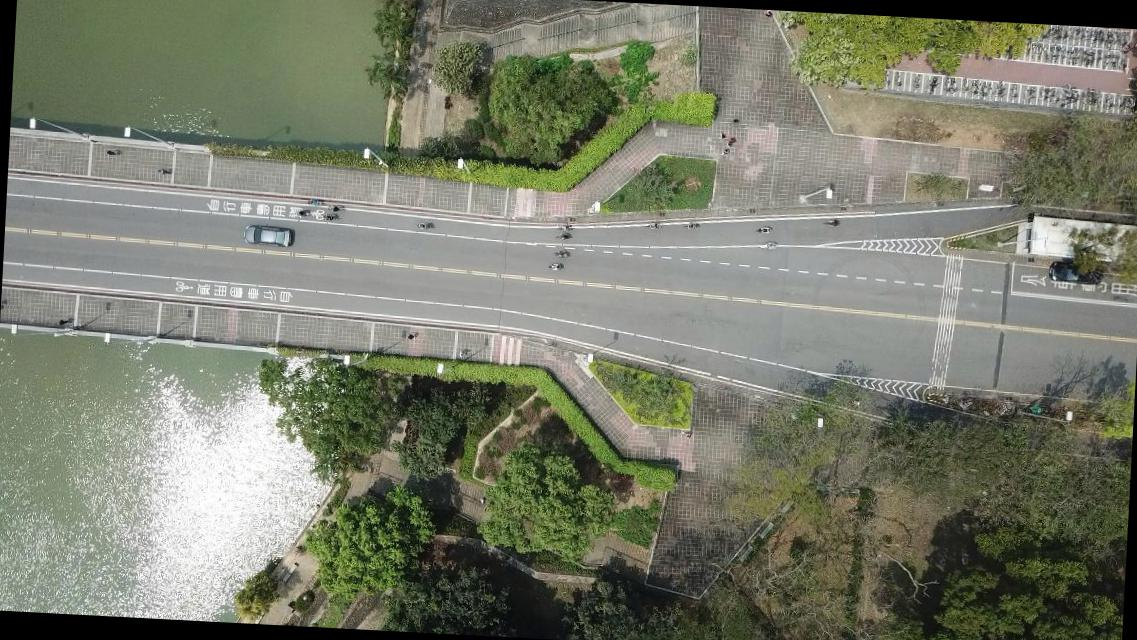vehicle: (1046, 260, 1102, 286), (242, 224, 292, 248)
